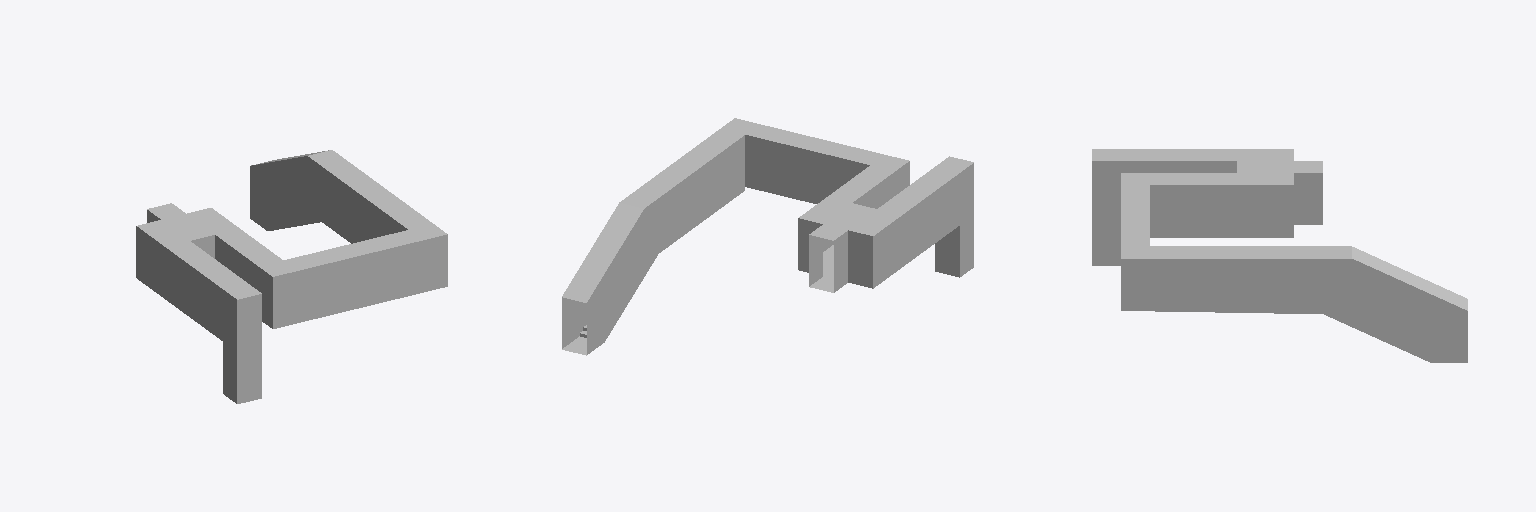
File: floor_hole.obj
The picture shows the model from 3 angles: view 1: azimuth 30°, elevation 25°; view 2: azimuth 150°, elevation 25°; view 3: azimuth 270°, elevation 25°; orthographic projection.
Size of the model in its own units: 900 by 400 by 1300.